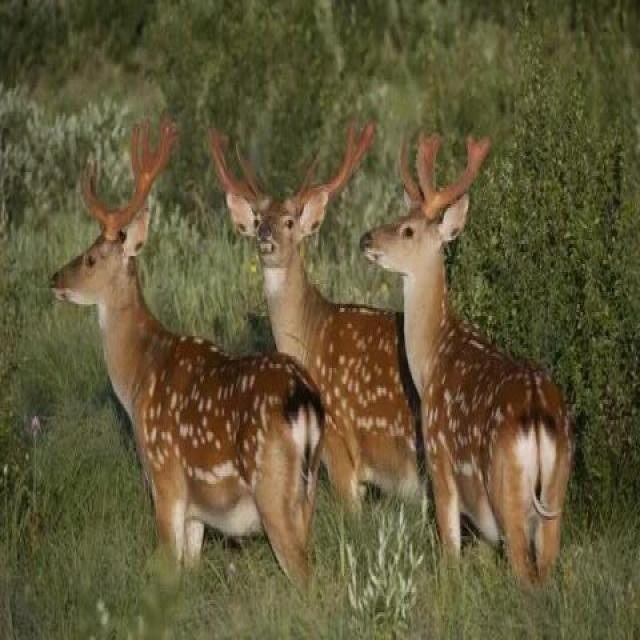deer: (136, 89, 482, 543), (13, 149, 361, 600), (342, 135, 587, 557)
